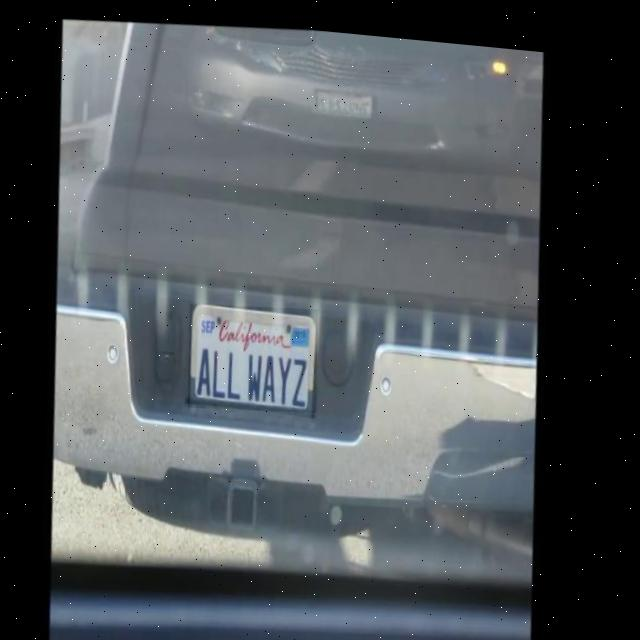LicensePlate: (188, 292, 328, 413)
